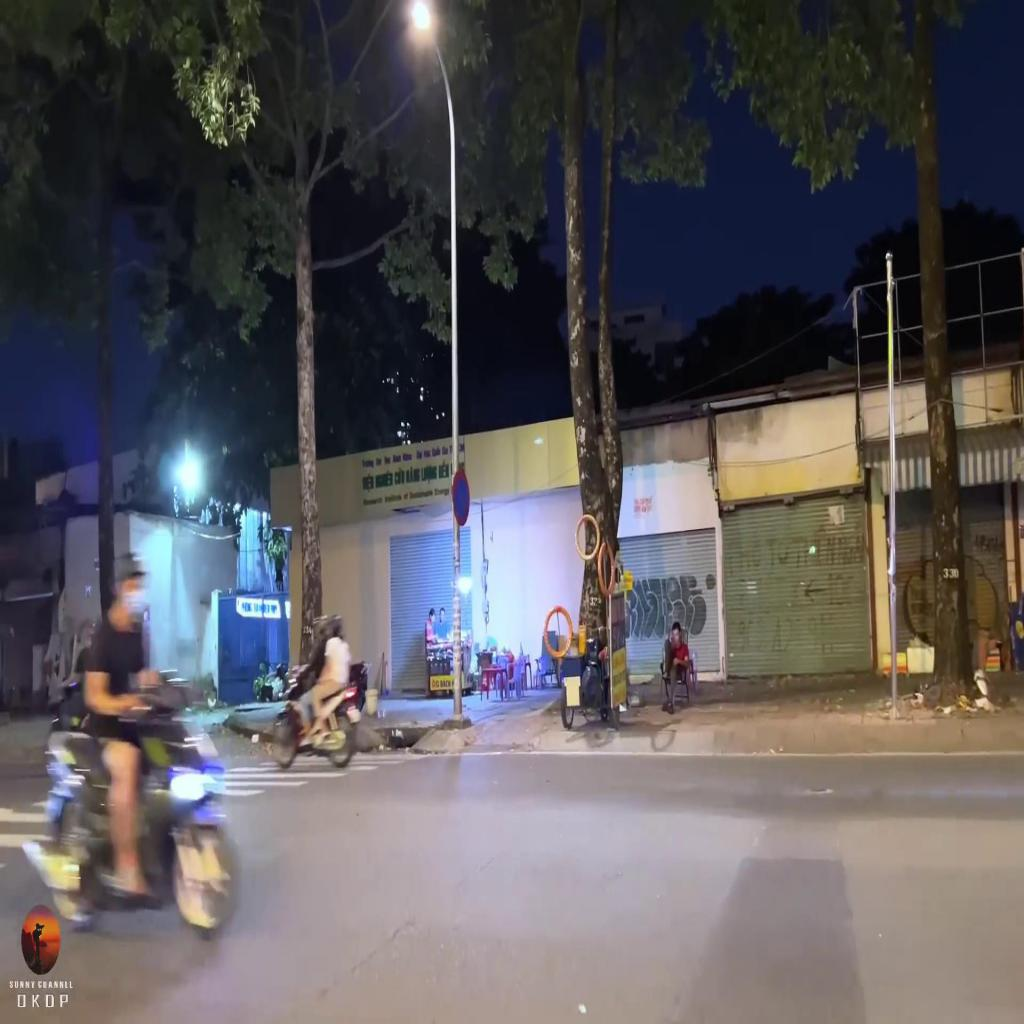cam_do_xe: (451, 470, 470, 526)
